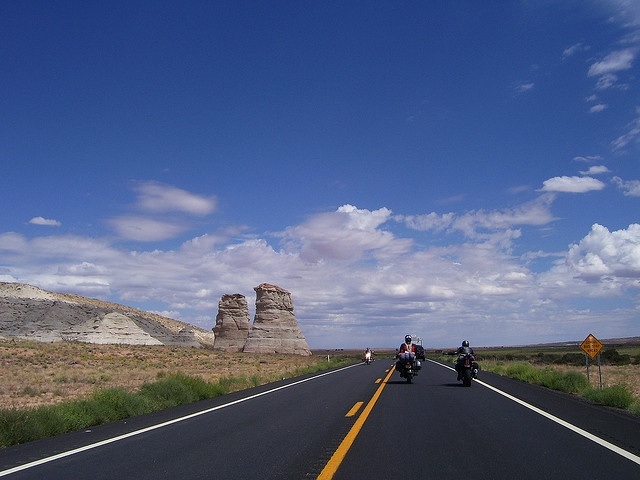non-vehicle: (454, 346, 478, 386), (395, 348, 421, 383), (362, 348, 375, 364)
